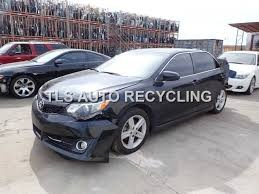Dent: (62, 107, 119, 162)
